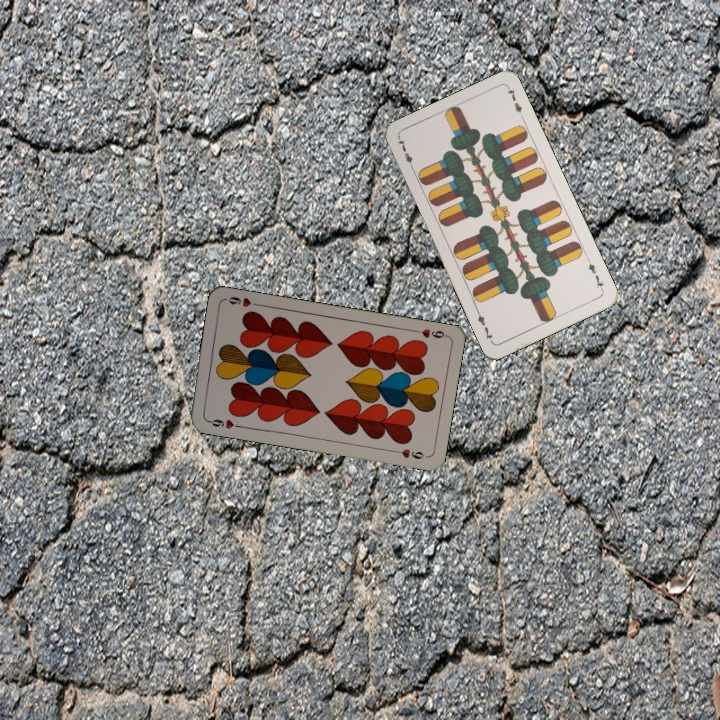E7: (583, 255, 606, 293), (394, 135, 417, 173)
H9: (203, 415, 243, 432), (409, 325, 449, 341)
